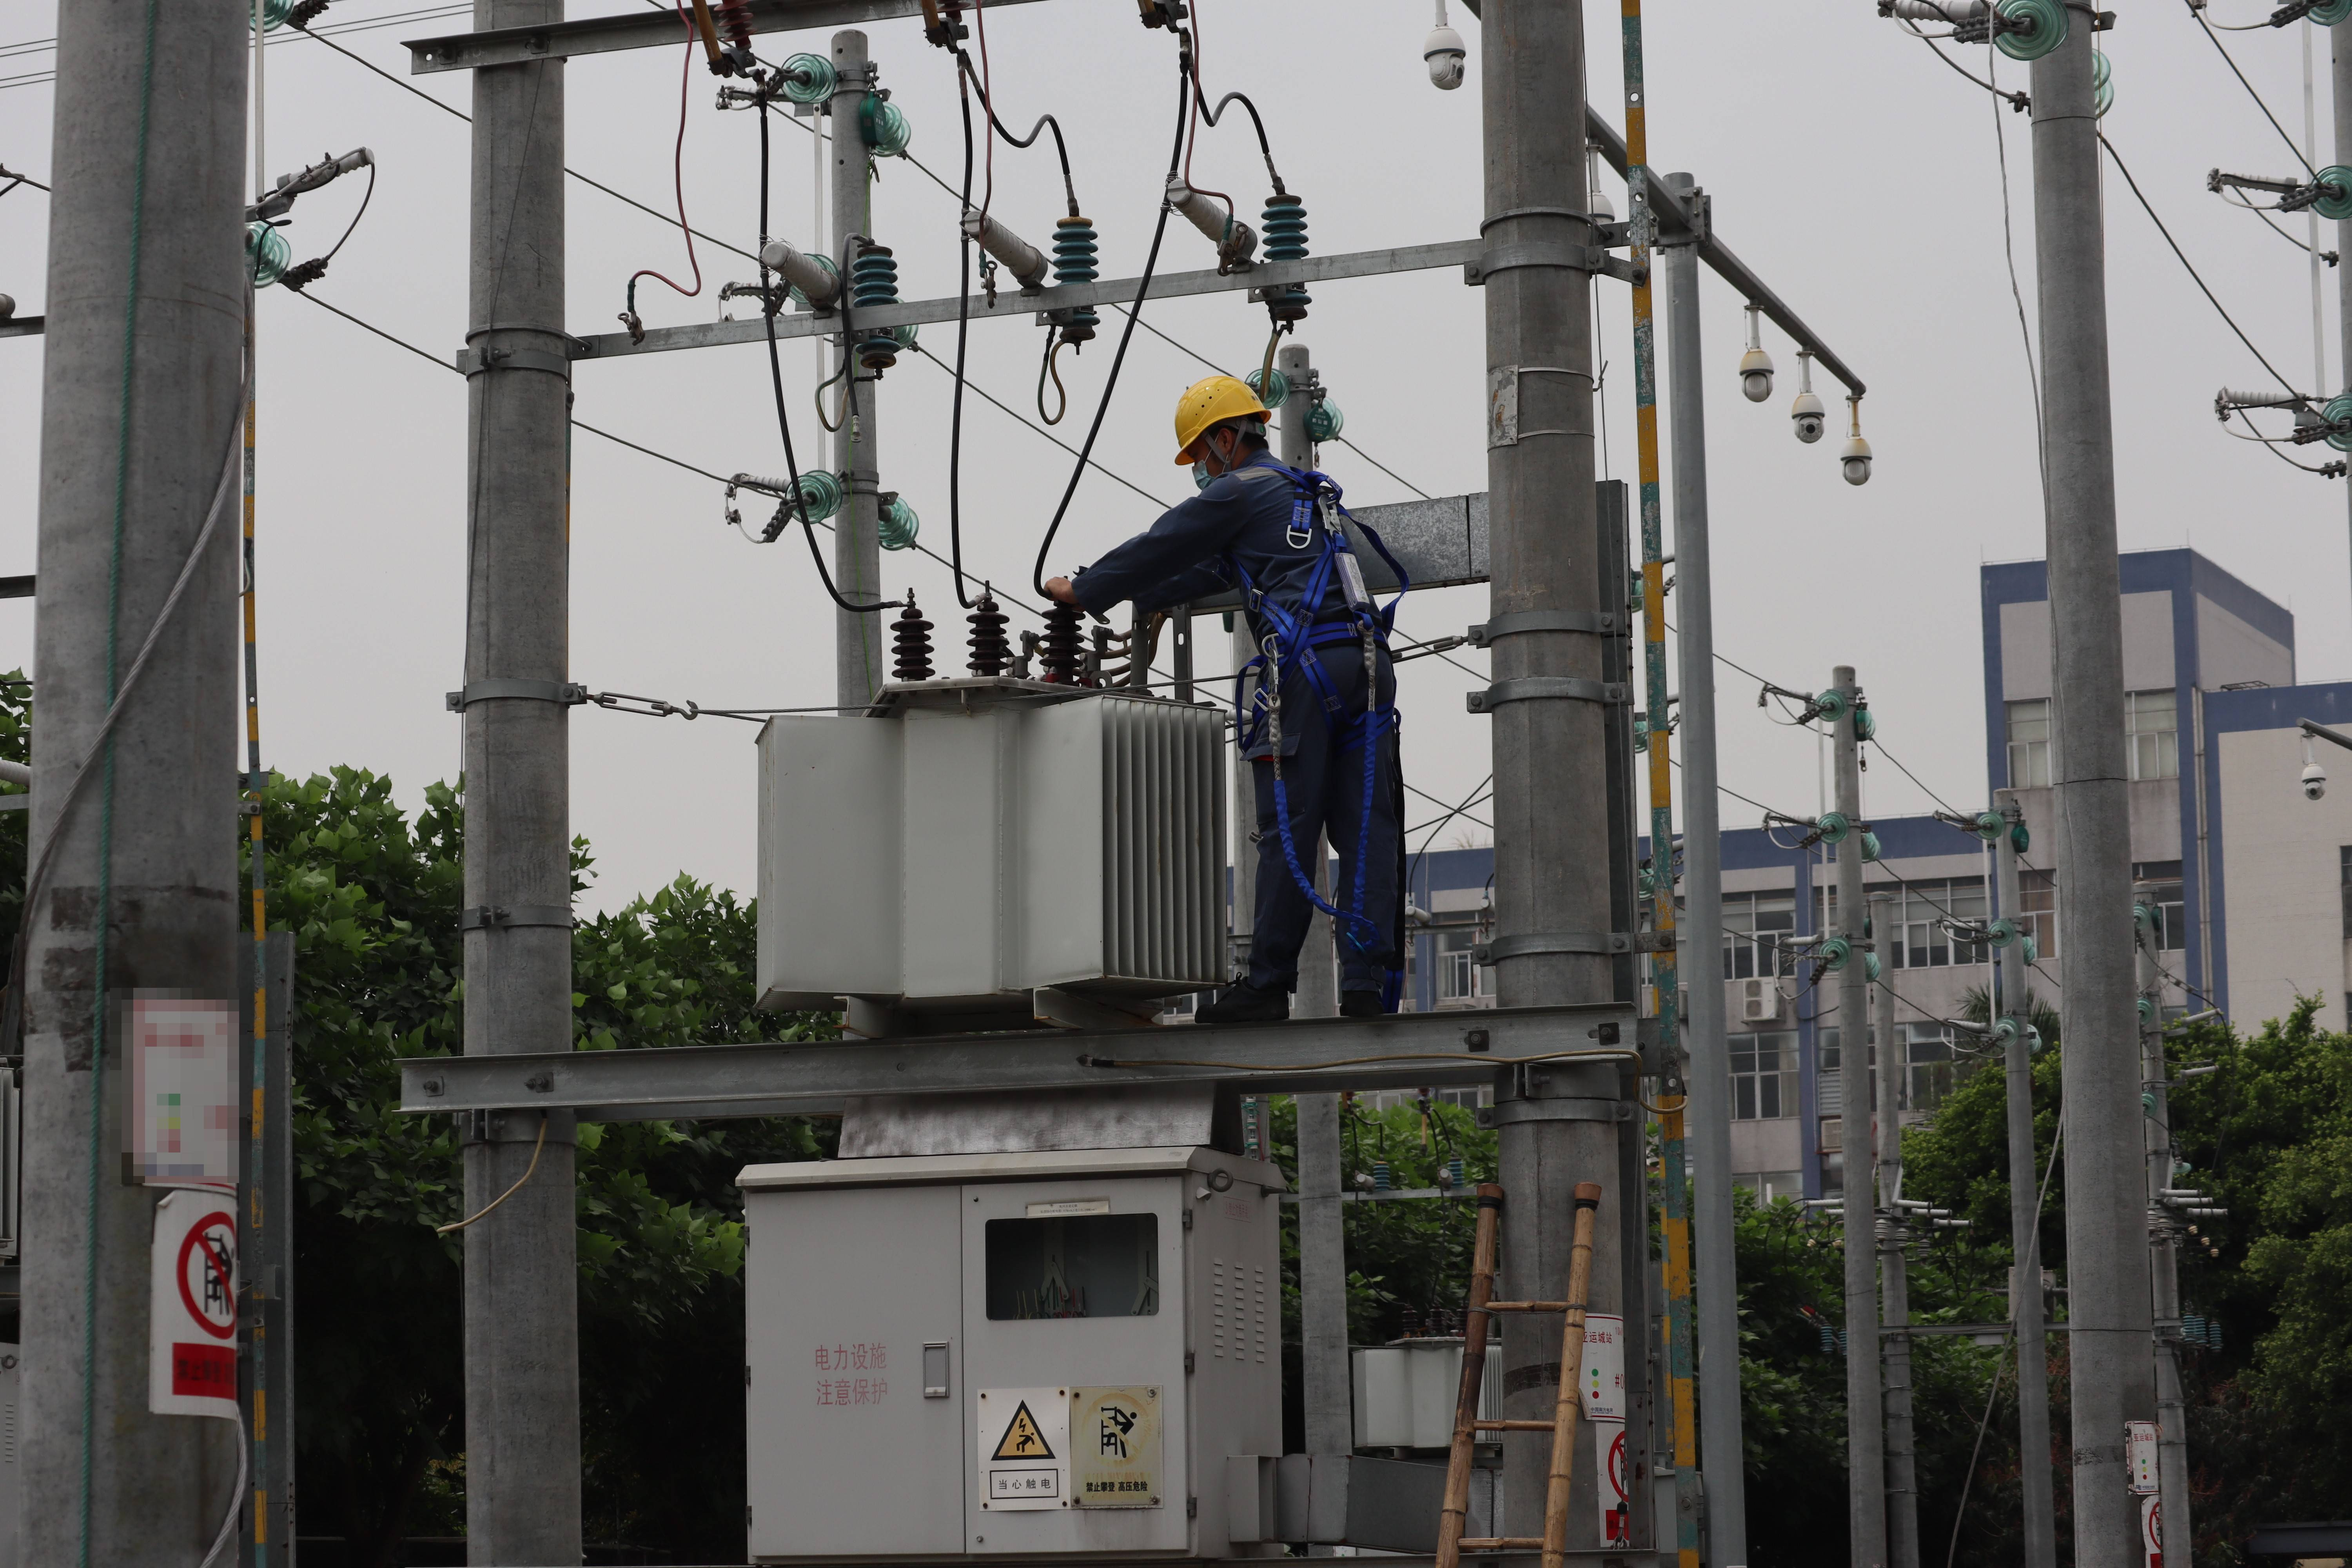downsuit: (1239, 649, 1407, 985)
upsuit: (1074, 453, 1390, 637)
